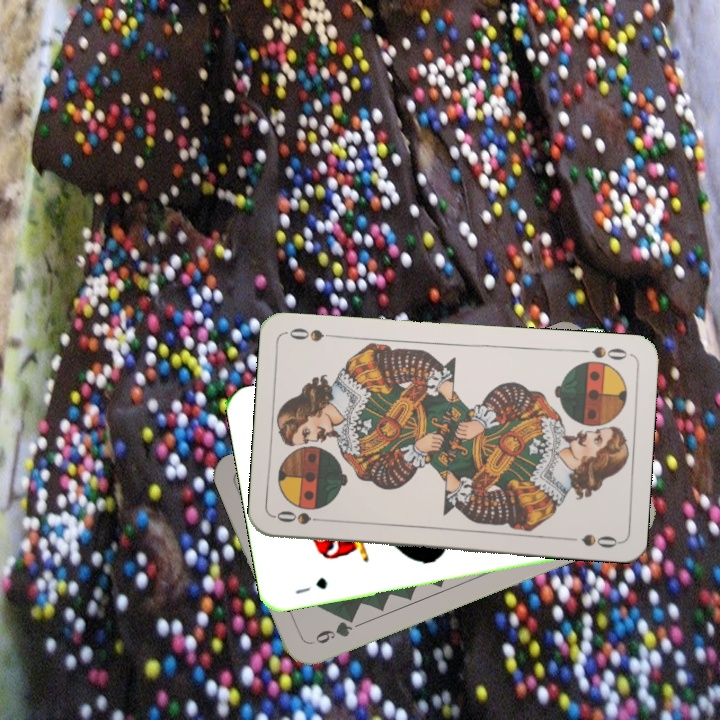G9: (305, 612, 362, 648)
GU: (291, 573, 330, 597)
SO: (272, 506, 332, 527), (574, 342, 633, 363)
